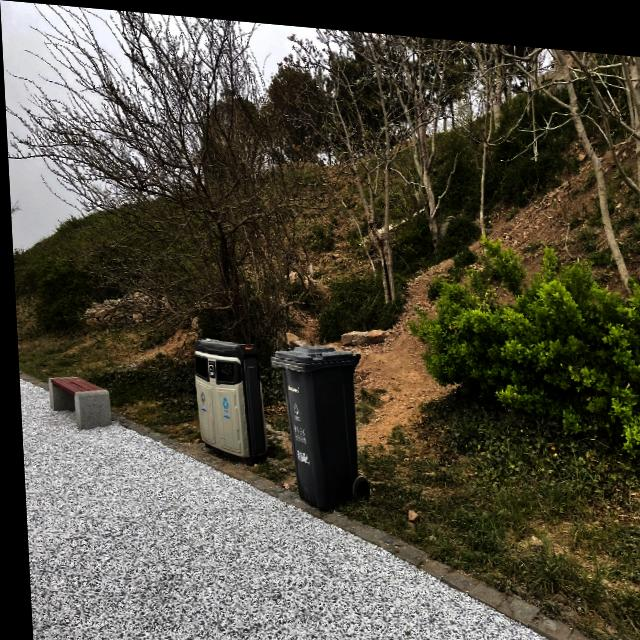garbage_bin: (266, 335, 363, 507), (187, 332, 263, 463)
